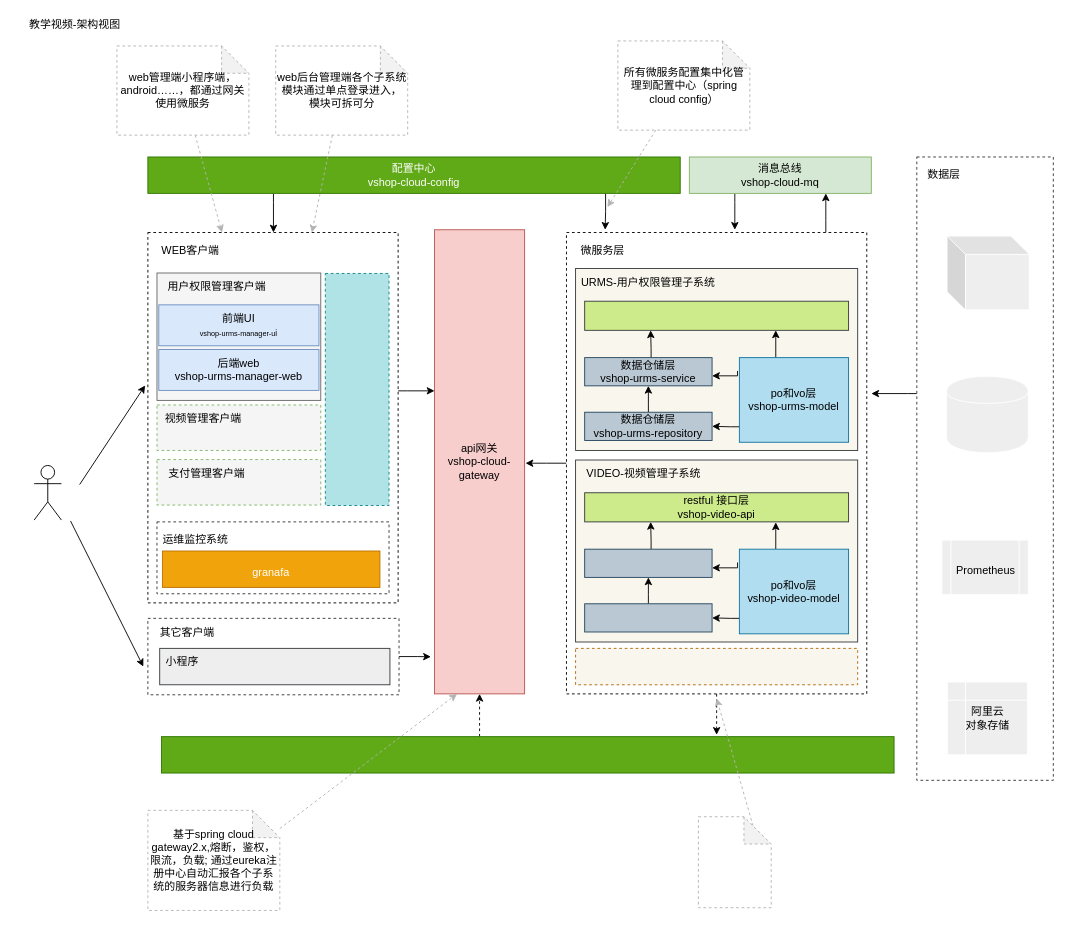
The diagram is 1069 pixels wide and 926 high, and some of its shapes have lost their labels. Here are the shapes that lost their labels. From the top down, the box of each, then its label:
(946, 235, 1029, 310): redis
(584, 300, 849, 330): restful 接口层 vshop-urms-api
(324, 273, 389, 506): 单点登录 vshop-urms-sso
(945, 375, 1028, 453): mysql
(33, 465, 61, 520): Actor
(584, 548, 712, 577): 数据仓储层 vshop-video-service
(584, 603, 712, 632): 数据仓储层 vshop-video-repository
(575, 647, 858, 685): 支付管理子系统
(161, 736, 894, 773): 注册中心 vshop-cloud-eureka
(698, 816, 771, 908): 所有微服务向eureka汇报状态
